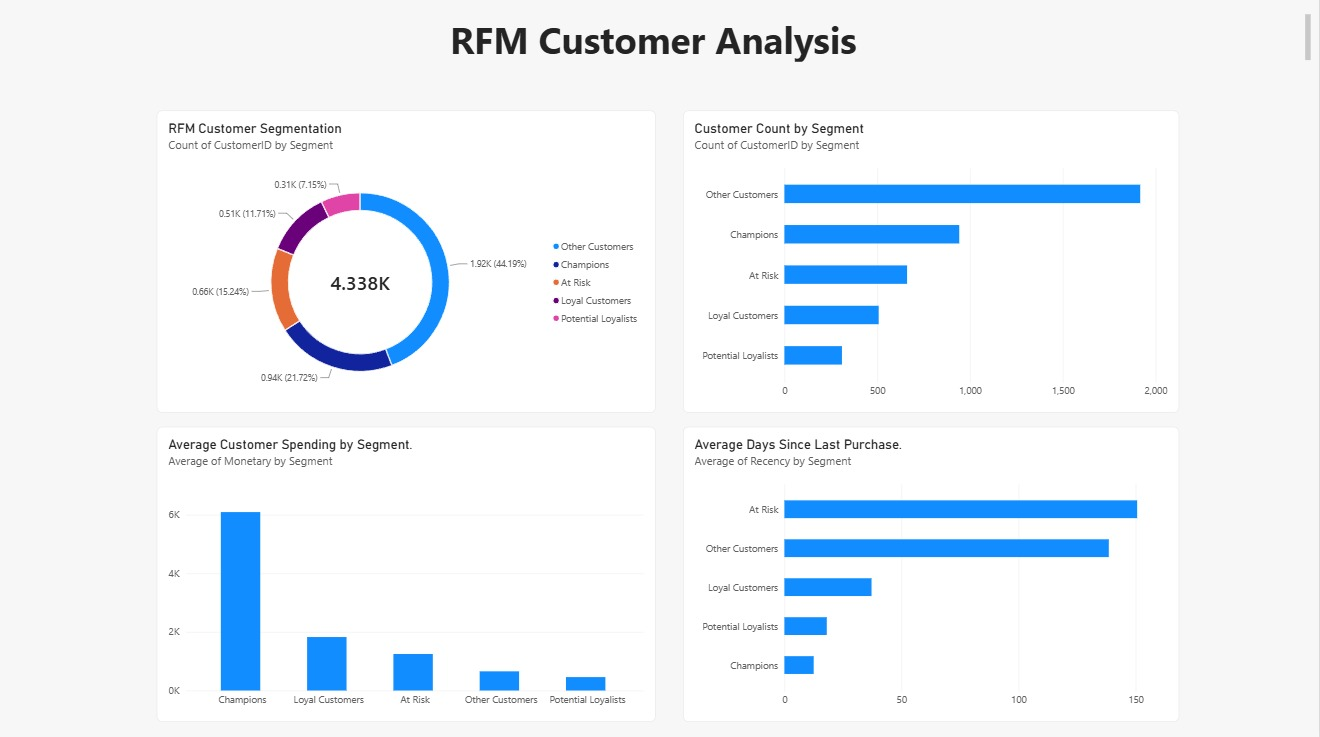

Layout of this report page (visuals, bound fields, positions):
{"tool":"powerbi","page":{"name":"Page 2","canvas":[1920,1080],"ordinal":1},"visuals":[{"type":"textbox","box":[10.9,30.8,1896.5,68.8],"z":0},{"type":"donutChart","title":"RFM Customer Segmentation","fields":{"Category":["rfm_customer_segments.Segment"],"Y":["Count(rfm_customer_segments.CustomerID)"]},"box":[237.1,170.1,722.1,437.9],"z":1},{"type":"clusteredBarChart","title":"Customer Count by Segment","fields":{"Category":["rfm_customer_segments.Segment"],"Y":["Count(rfm_customer_segments.CustomerID)"]},"box":[998.9,170.1,718.4,437.9],"z":2},{"type":"clusteredColumnChart","title":"Average Customer Spending by Segment.","fields":{"Category":["rfm_customer_segments.Segment"],"Y":["Avg(rfm_customer_segments.Monetary)"]},"box":[237.1,628,722.1,427.1],"z":3},{"type":"clusteredBarChart","title":"Average Days Since Last Purchase.","fields":{"Category":["rfm_customer_segments.Segment"],"Y":["Avg(rfm_customer_segments.Recency)"]},"box":[998.9,628,718.4,427.1],"z":4}]}

Visuals, with their boxes in screenshot pixels (x1, y1, x2, y2), scaled from the page's 1920x1080 canvas onto the 1320x737 screenshot:
textbox: (7,21,1311,68)
"RFM Customer Segmentation" donutChart: (163,116,659,415)
"Customer Count by Segment" clusteredBarChart: (687,116,1181,415)
"Average Customer Spending by Segment." clusteredColumnChart: (163,429,659,720)
"Average Days Since Last Purchase." clusteredBarChart: (687,429,1181,720)
